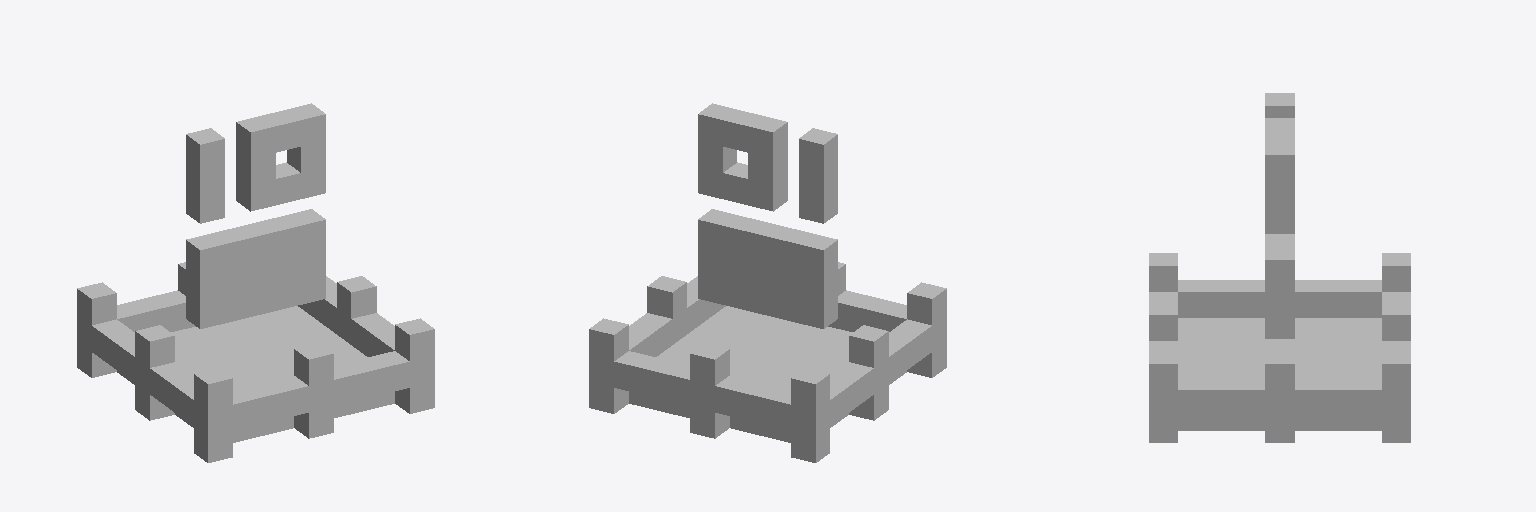
File: Locked 10.obj
3 renders of one model, left to right at view 1: azimuth 30°, elevation 25°; view 2: azimuth 150°, elevation 25°; view 3: azimuth 270°, elevation 25°, orthographic.
Parts seen in each view (by area): view 1: object 1; view 2: object 1; view 3: object 1.
Part boxes in pixels (bbox=[...]): object 1: bbox=[77, 103, 434, 462]; object 1: bbox=[589, 103, 946, 462]; object 1: bbox=[1149, 93, 1410, 442].
Bounding box in the file's own units: 0.9 × 1 × 0.9.